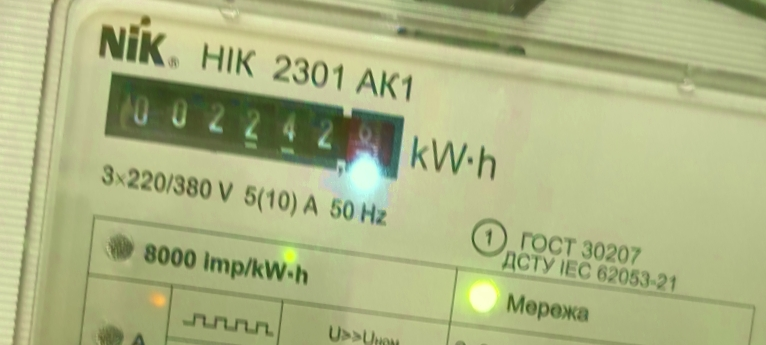0: (131, 93, 155, 129), (169, 96, 192, 131)
2: (207, 101, 230, 135), (243, 107, 265, 142), (317, 118, 337, 152)
4: (282, 110, 301, 144)
6: (358, 117, 377, 146)
screen: (92, 62, 419, 191)
